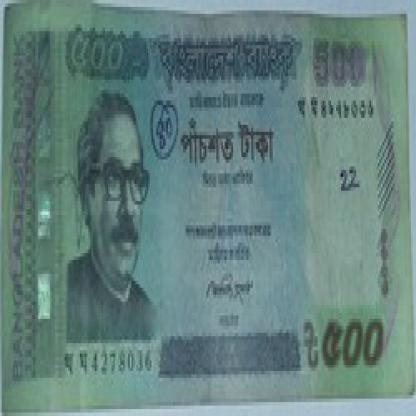500 taka: (51, 31, 152, 101)
currency: (2, 7, 414, 412)
